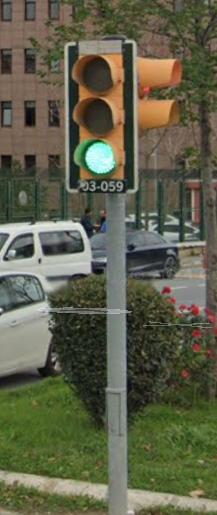greenlight: (68, 45, 139, 196)
